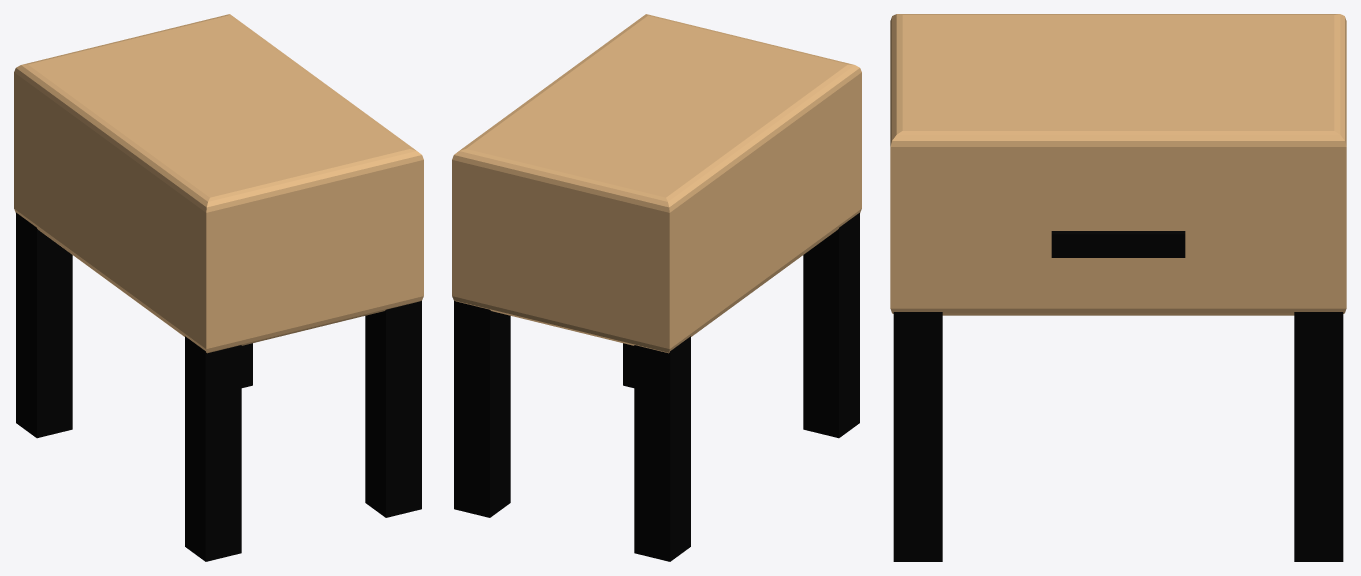
The model's file is Верстак.fbx.
The picture shows the model from 3 angles, left to right: view 1: azimuth 30°, elevation 25°; view 2: azimuth 150°, elevation 25°; view 3: azimuth 270°, elevation 25°; orthographic projection. The views are drawn at different scales.
Visible parts, largest first — view 1: Стойки; view 2: Стойки; view 3: Стойки.
Part boxes in pixels (bbox=[...]): Стойки: bbox=[14, 14, 423, 561]; Стойки: bbox=[452, 14, 861, 561]; Стойки: bbox=[890, 14, 1346, 561].
Size of the model in its own units: 1265 by 1915 by 1856.
